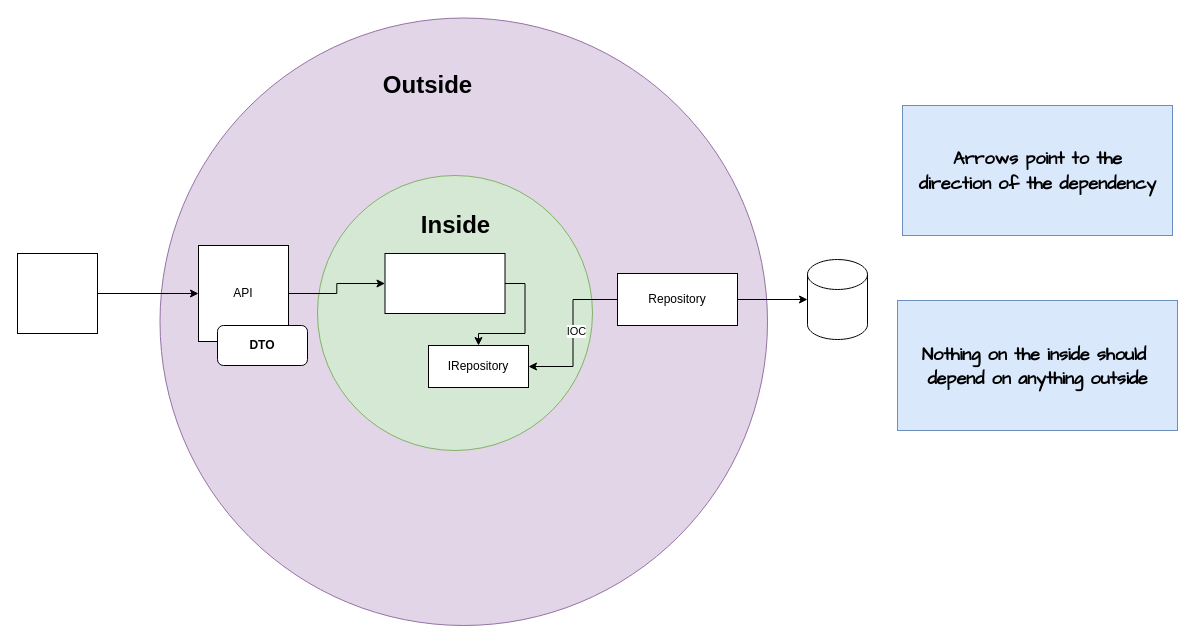
Image size: 1195x643. Some labels were removed from this diagram. Here are the shapes that lost their labels. From the top down, the centre of each, then its label:
At point 57,293: "Browser".
At point 444,283: "Application".
At point 837,299: "DB".
